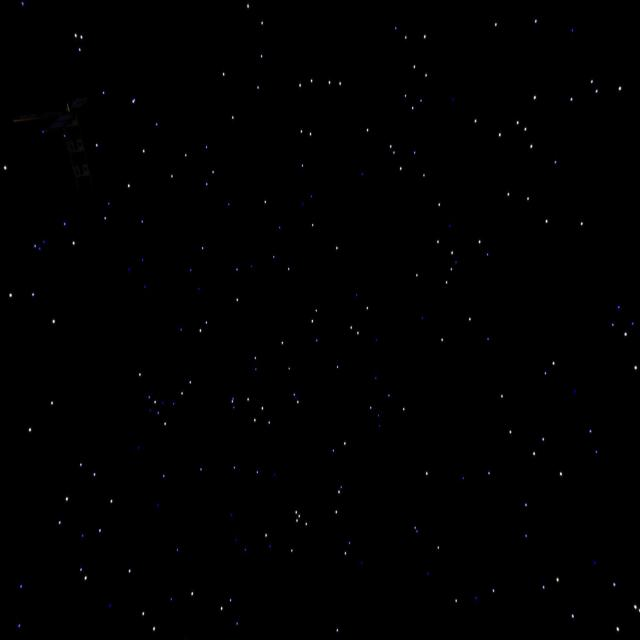satellite: (5, 63, 144, 239)
